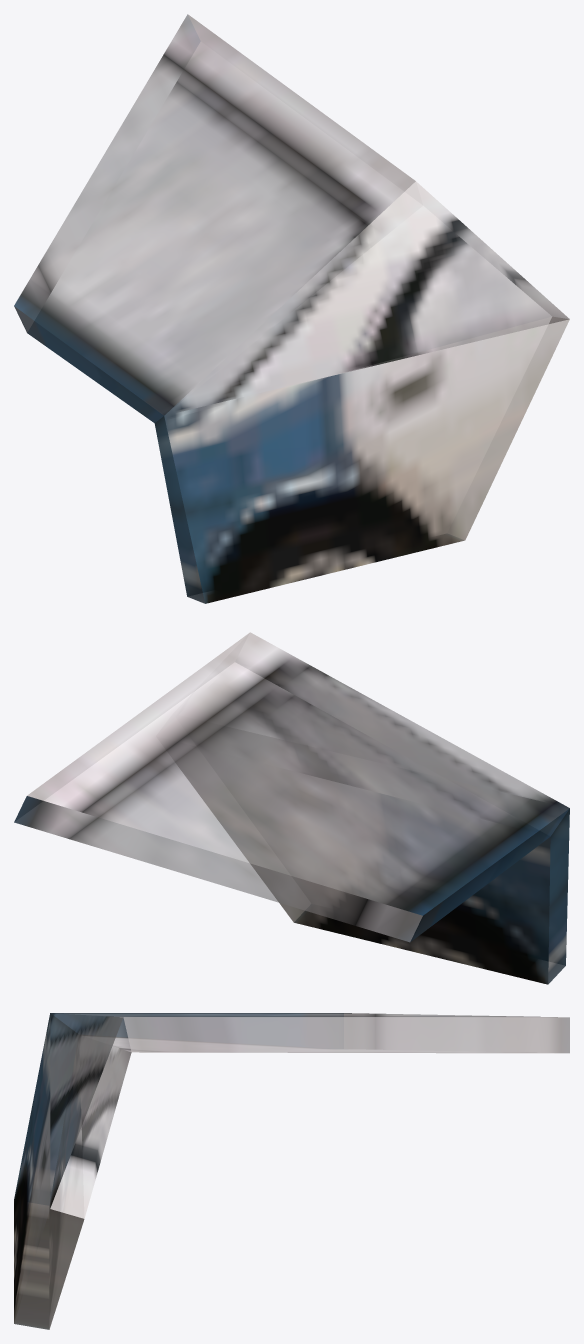
File: Shared - Ground Vehicles - Police Car - CVPoliceCar_x03.glb
The picture shows the model from 3 angles, top to bottom: view 1: azimuth 30°, elevation 25°; view 2: azimuth 150°, elevation 25°; view 3: azimuth 270°, elevation 25°; orthographic projection. The views are drawn at different scales.
Parts seen in each view (by area): view 1: CVPOLICECAR_X03; view 2: CVPOLICECAR_X03; view 3: CVPOLICECAR_X03.
Part boxes in pixels (x1,y1,x2,y2): CVPOLICECAR_X03: [14, 14, 569, 603]; CVPOLICECAR_X03: [14, 632, 569, 984]; CVPOLICECAR_X03: [14, 1013, 569, 1329].
Size of the model in its own units: 5.7 by 4.33 by 6.91.
1 material, 1 textured.
